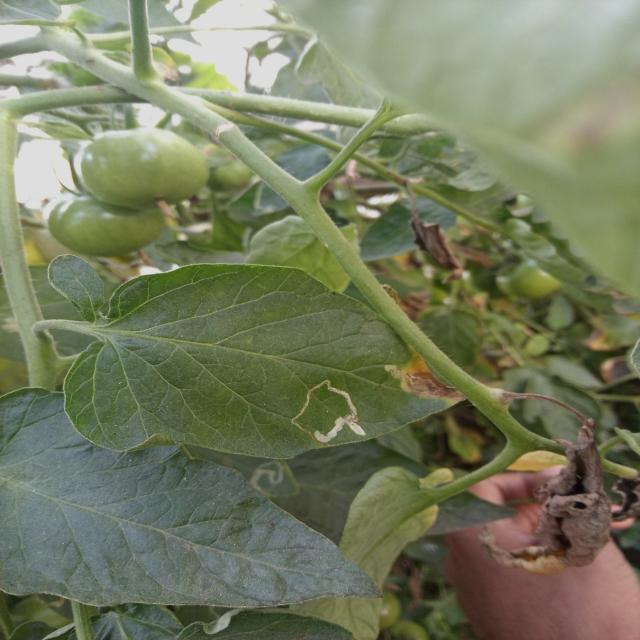Tuta absoluta: (289, 374, 379, 460)
